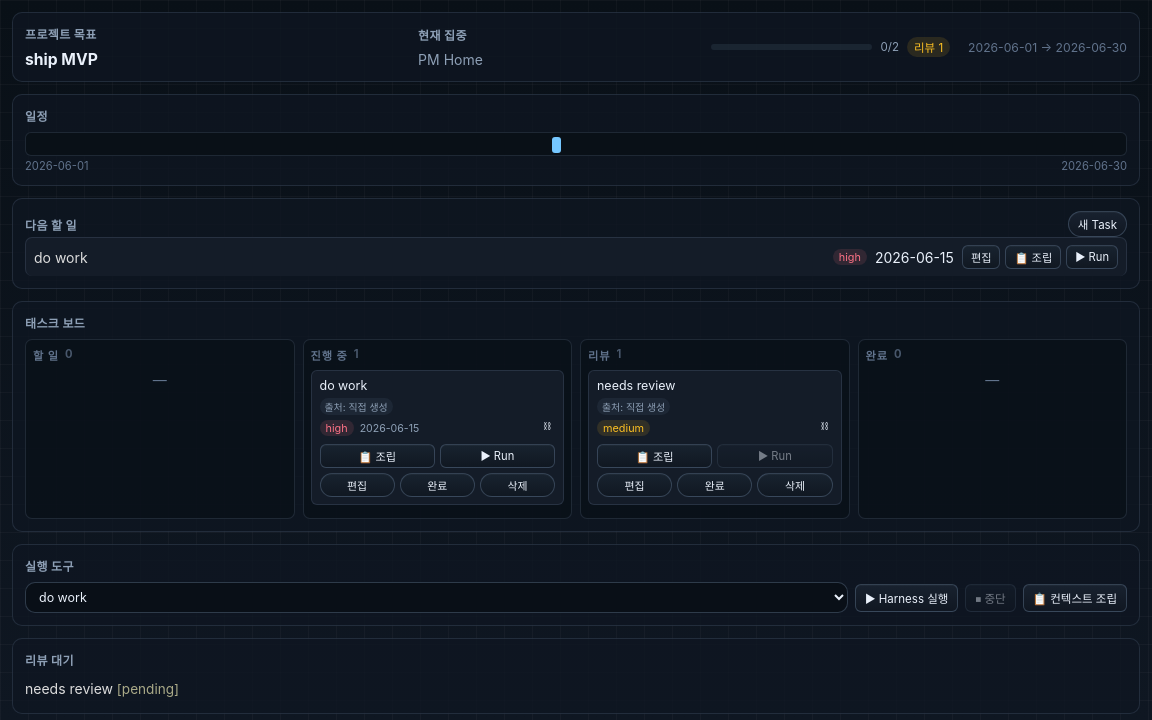
Test: PmHome › opens the shared editor from nextUp and refreshes only after a successful save
Click the button with aria-label "do work 편집" at (981, 257), box [962,245,1000,269]
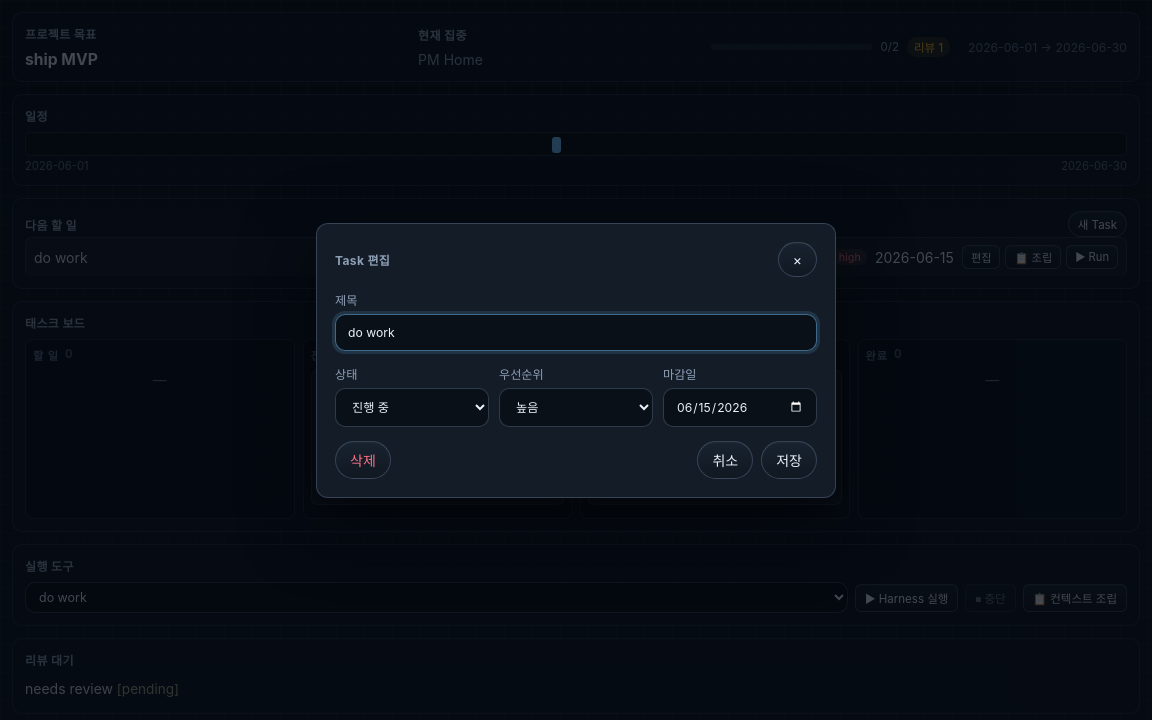
Replace the text in the field named "Task 제목" with "edited work" at (576, 332), box [335,314,817,350]
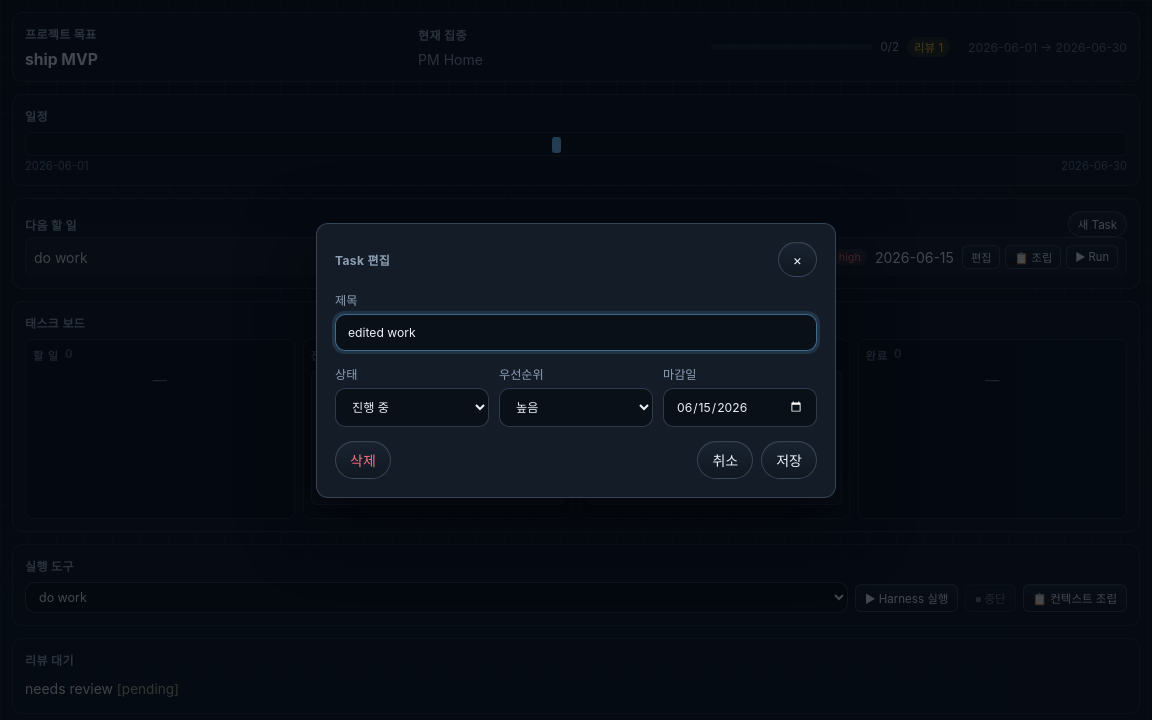
Click the button "저장" at (789, 460), box [761,440,817,478]
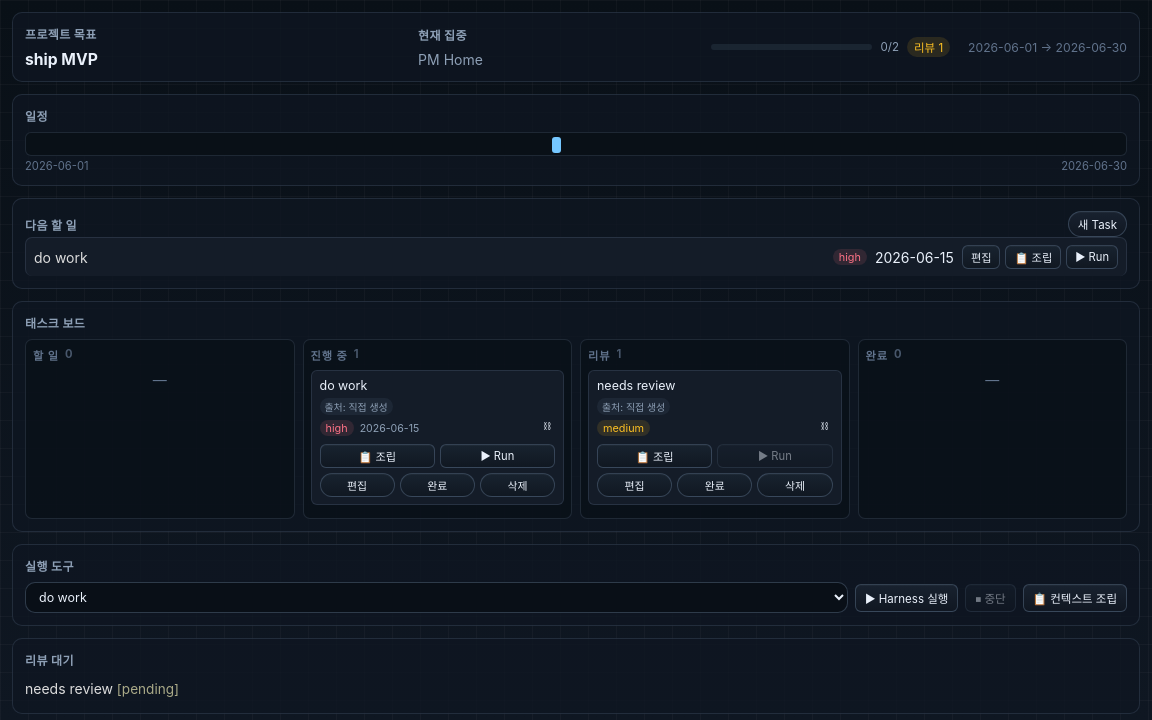
Result: the heading "Task 편집" is gone
